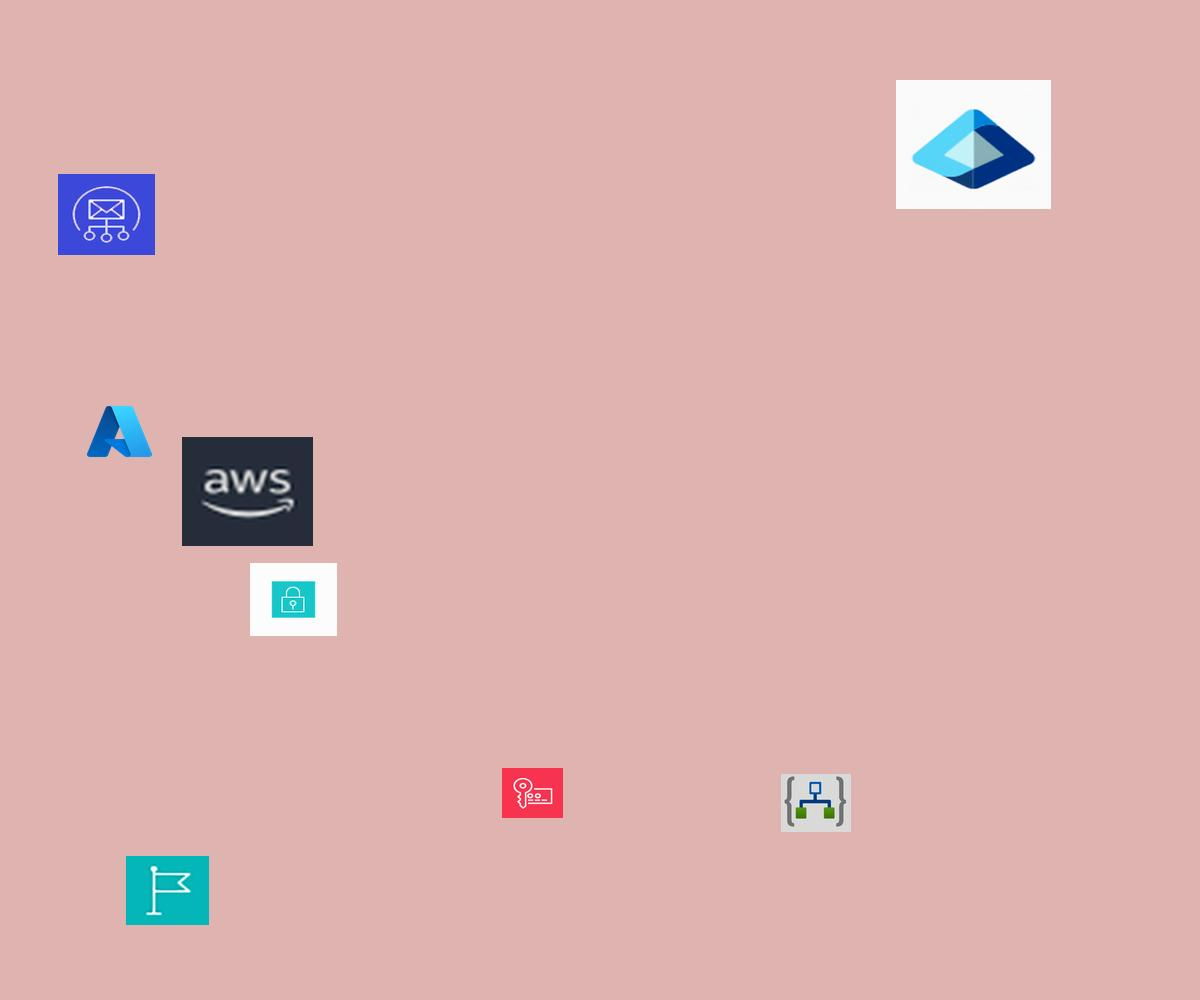AWS-Cloud-logo: (182, 437, 313, 546)
AWS-Key-Management-Service: (502, 768, 563, 818)
AWS-Private-subnet: (250, 563, 337, 636)
AWS-Region: (126, 856, 209, 925)
AWS-Simple-Email-Service: (58, 174, 155, 255)
Azure_integration-204-Logic-Apps: (781, 774, 851, 832)
Azure_microsoft_entra: (896, 80, 1051, 209)
Azure_services: (84, 402, 155, 461)
